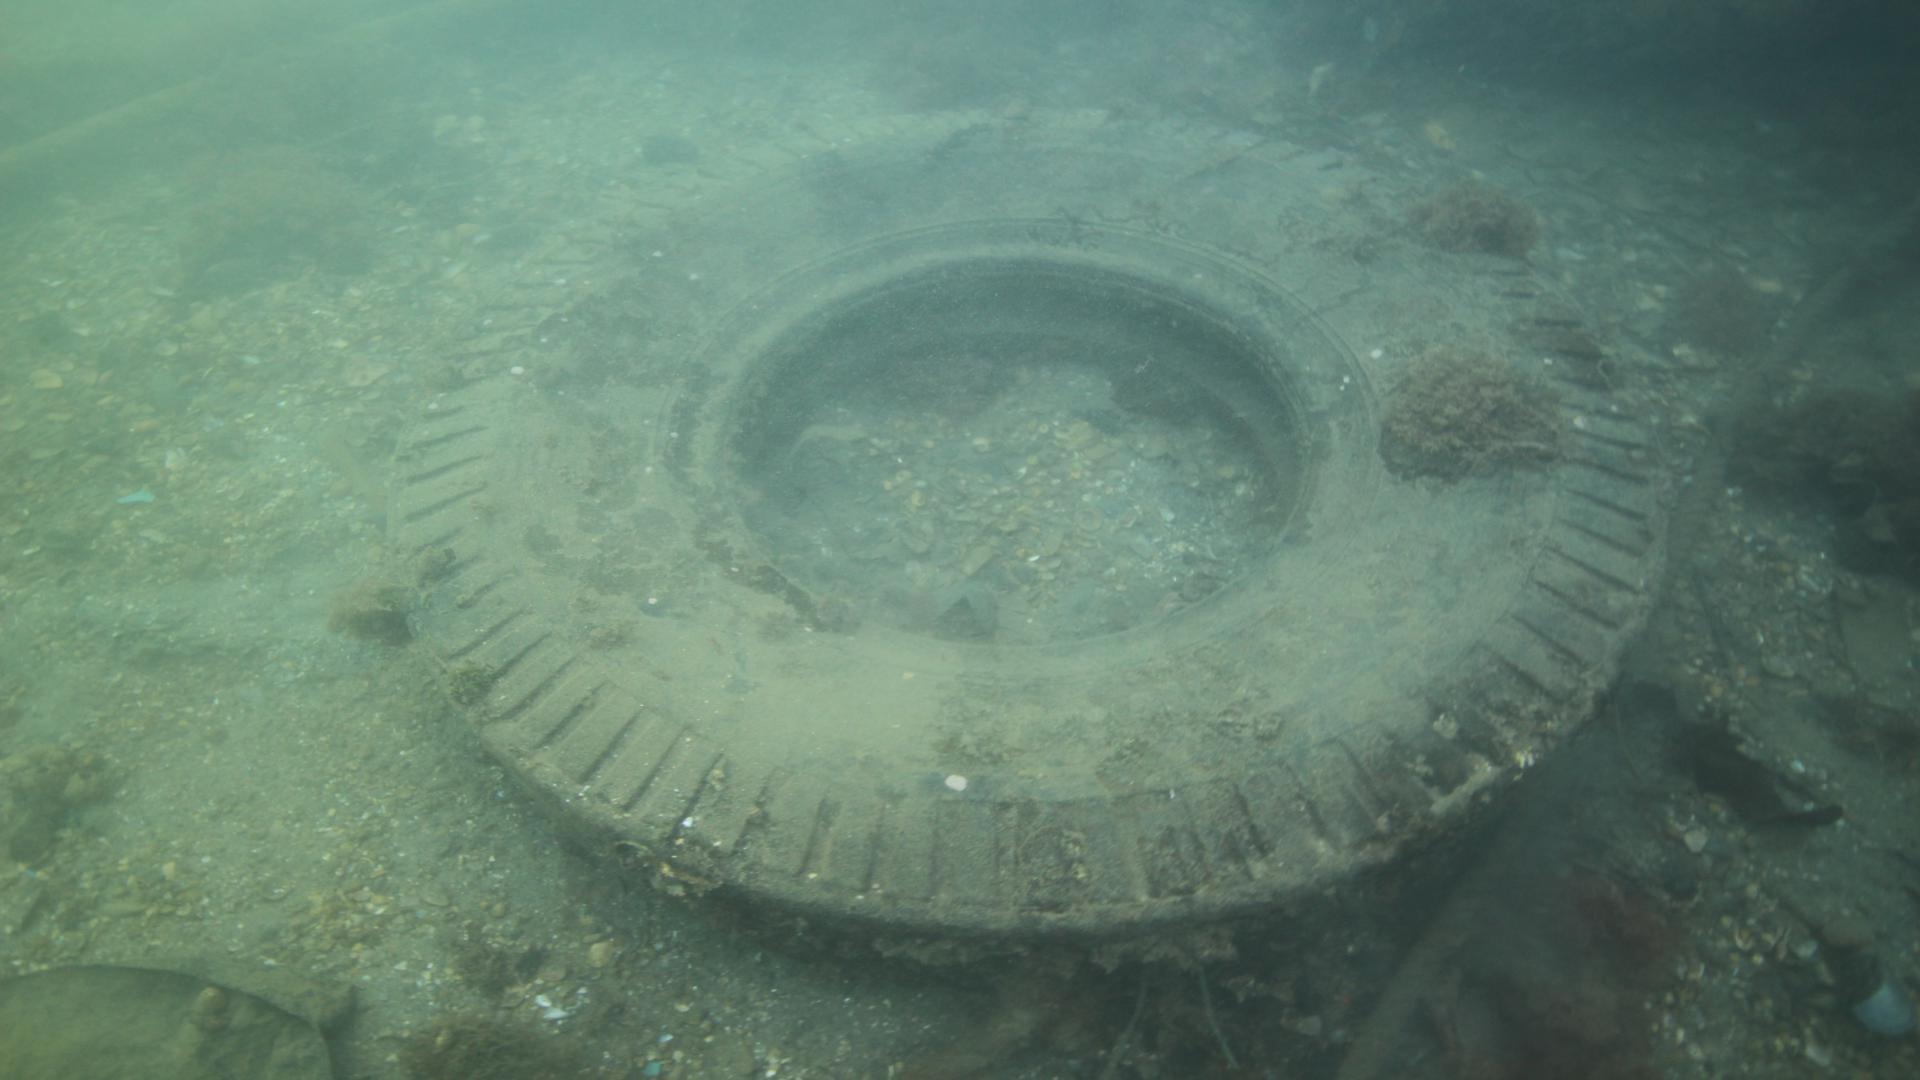rope: (1331, 709, 1607, 1080), (1668, 199, 1920, 579)
tire: (382, 102, 1677, 978)
